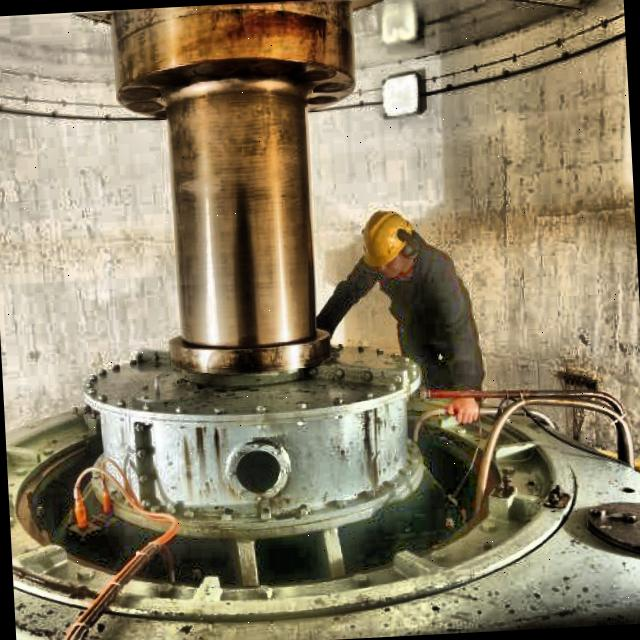helmet: (351, 206, 429, 284)
